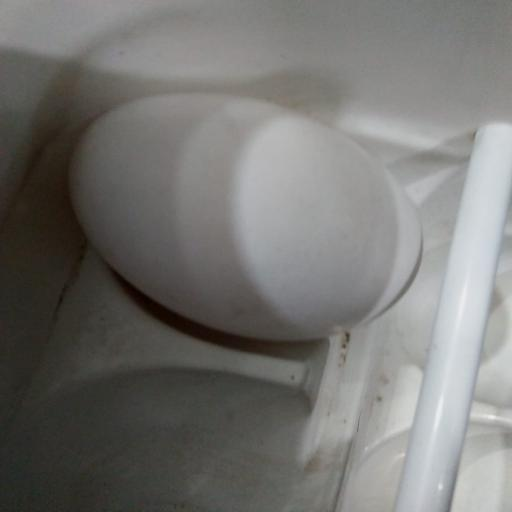telur: (61, 80, 438, 358)
